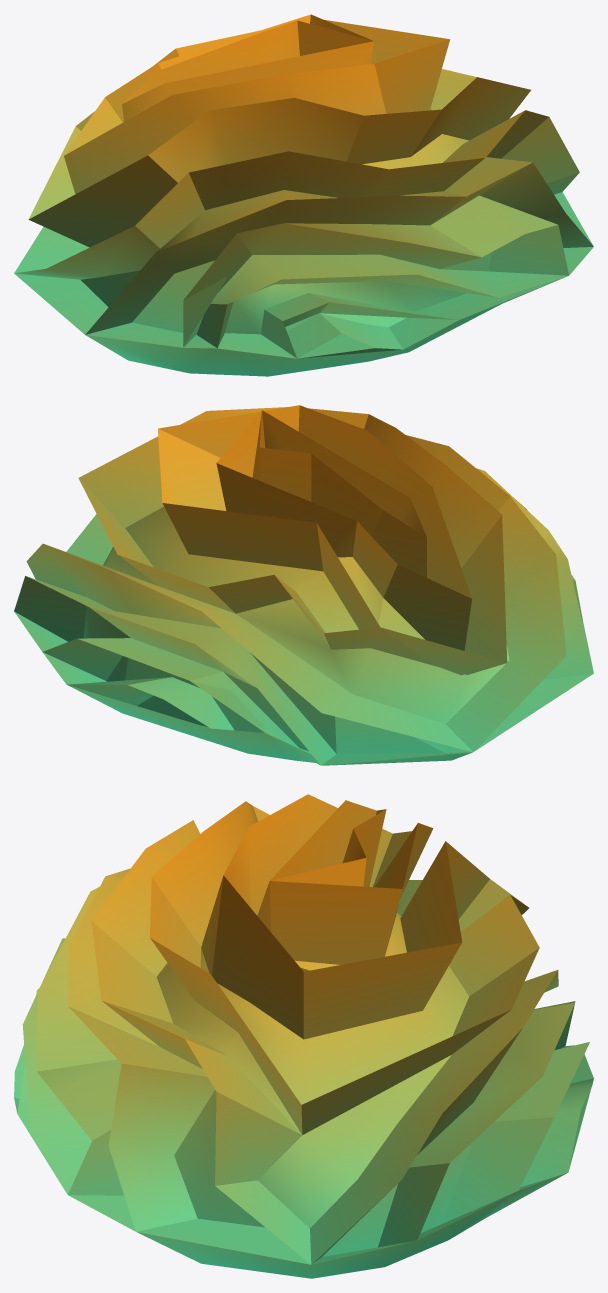
The model's file is MOD_Coral1.fbx.
3 views of the same model, one above another, from view 1: azimuth 30°, elevation 25°; view 2: azimuth 150°, elevation 25°; view 3: azimuth 270°, elevation 25° (orthographic). The views are drawn at different scales.
Parts seen in each view (by area): view 1: MOD_Coral1_LOD0; view 2: MOD_Coral1_LOD0; view 3: MOD_Coral1_LOD0.
Boxes of the visible parts, x1=… form: MOD_Coral1_LOD0: x1=14, y1=14, x2=593, y2=376; MOD_Coral1_LOD0: x1=14, y1=405, x2=593, y2=765; MOD_Coral1_LOD0: x1=14, y1=794, x2=593, y2=1278.
Size of what is drawn, in the model's own units: 3.46 by 1.6 by 2.72.
